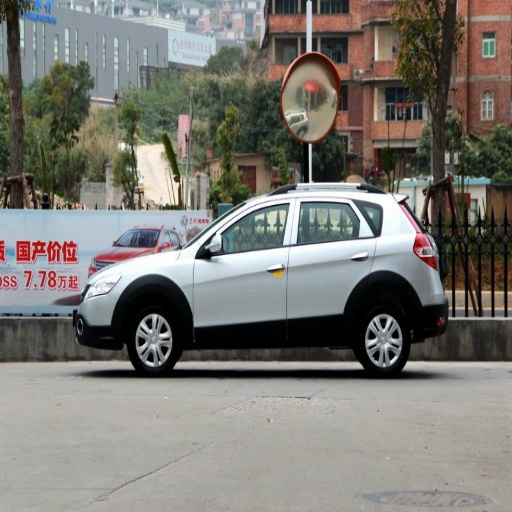back_left_door: (287, 198, 374, 342)
front_left_door: (193, 199, 295, 344)
